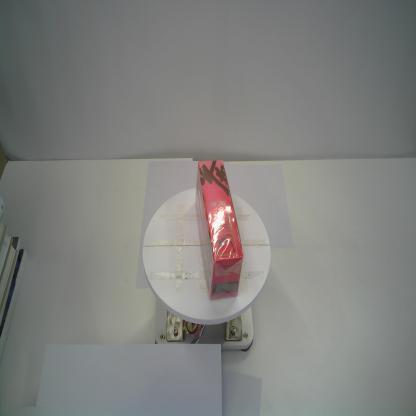Instant Drink: (194, 159, 244, 301)
